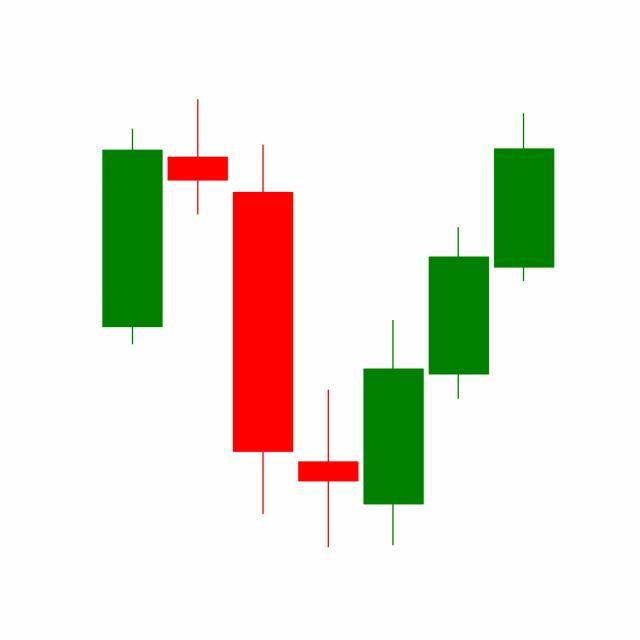Three Outside Up-Down: (295, 223, 492, 549)
